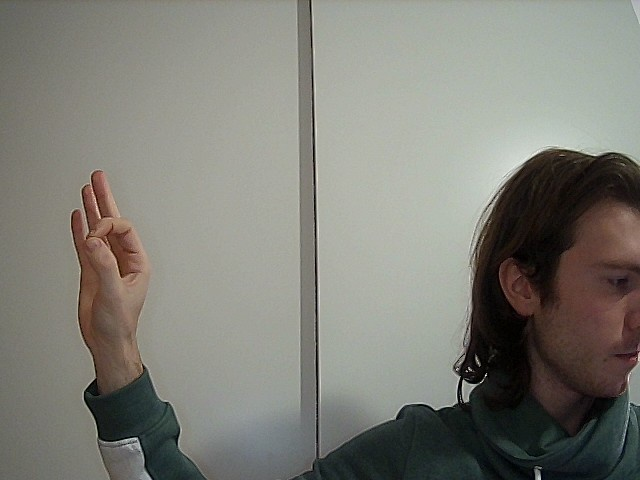f: (41, 159, 168, 357)
